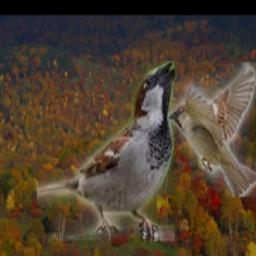Sparrow: (38, 62, 176, 242), (167, 63, 256, 198)
